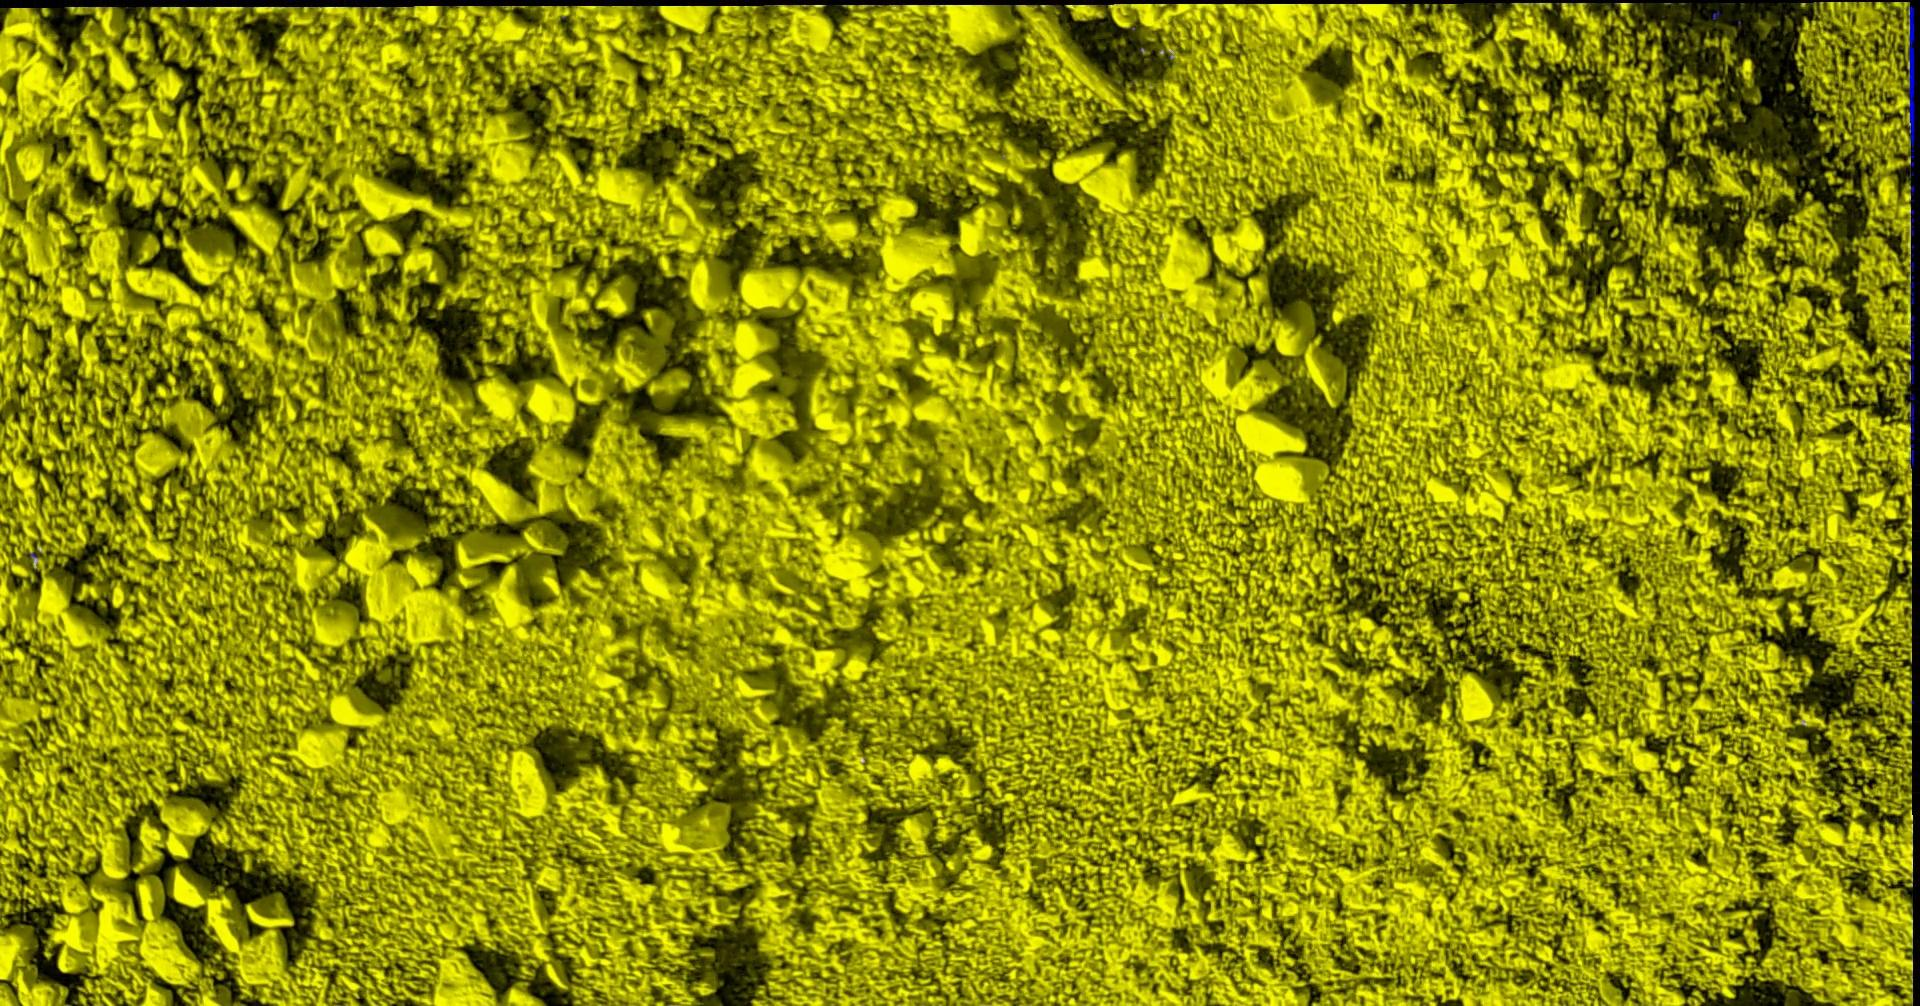ant: (1909, 0, 1915, 175), (1909, 391, 1914, 466), (1909, 314, 1914, 384), (1909, 244, 1914, 304)
